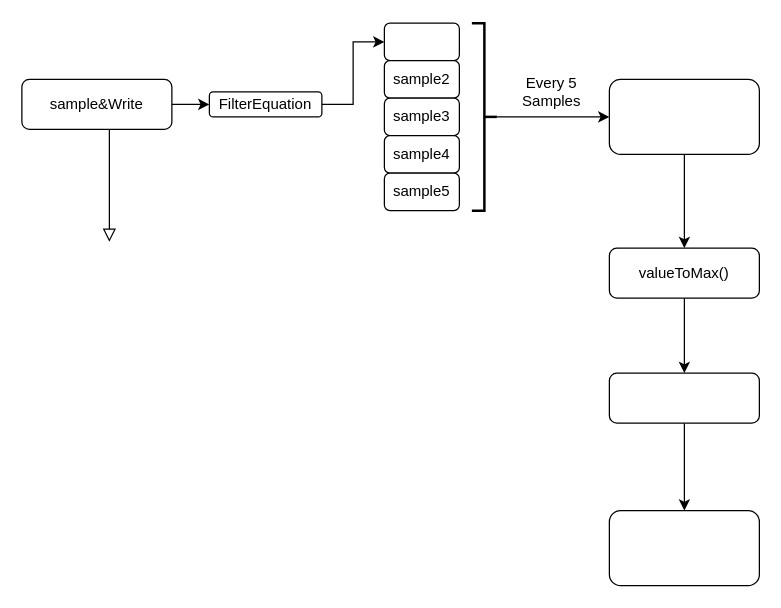
Image size: 781x608. Some labels were removed from this diagram. Here are the shapes that lost their labels. From the top down, the centre of each, then its label:
[421,41]: sample1
[683,116]: arrayAvg()
[683,397]: avgToDisplayByte()
